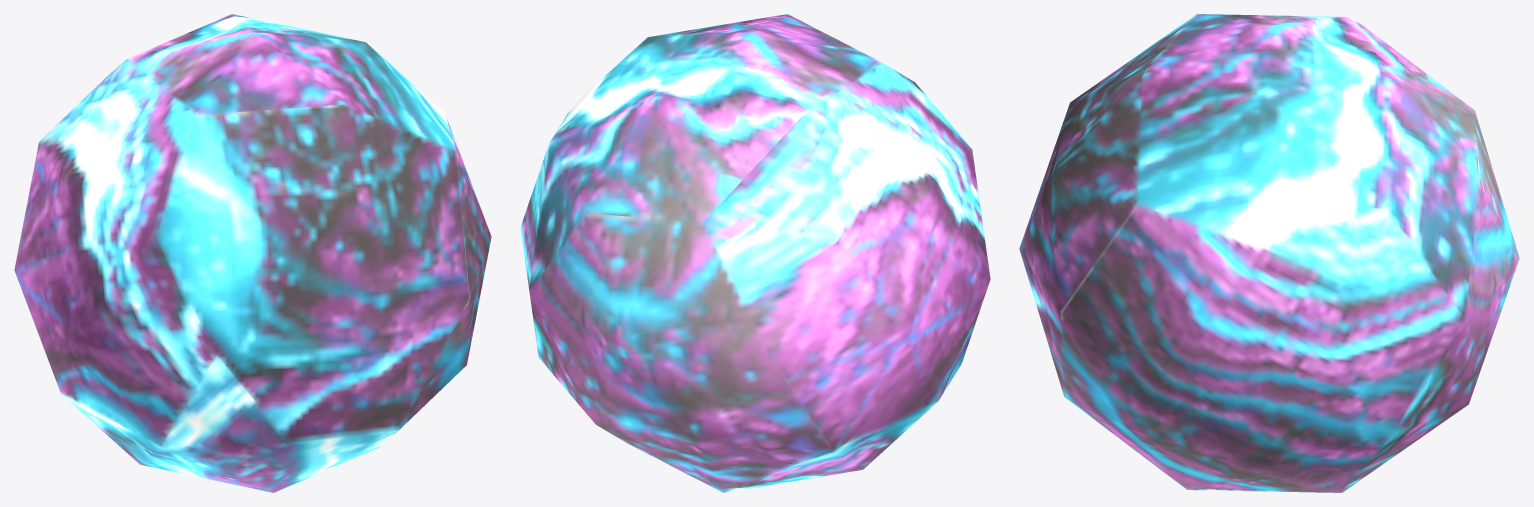
File: BluePurplePlanet.glb
3 views of the same model, side by side, from view 1: azimuth 30°, elevation 25°; view 2: azimuth 150°, elevation 25°; view 3: azimuth 270°, elevation 25° (orthographic). The views are drawn at different scales.
Visible parts, largest first — view 1: 棱角球.008; view 2: 棱角球.008; view 3: 棱角球.008.
Boxes of the visible parts, box(x1,y1,x2,y2) form: 棱角球.008: box(14, 14, 491, 492); 棱角球.008: box(520, 14, 990, 492); 棱角球.008: box(1019, 14, 1519, 492).
Size of what is drawn, in the model's own units: 4.29 by 4.45 by 4.44.
1 material, 1 textured.
